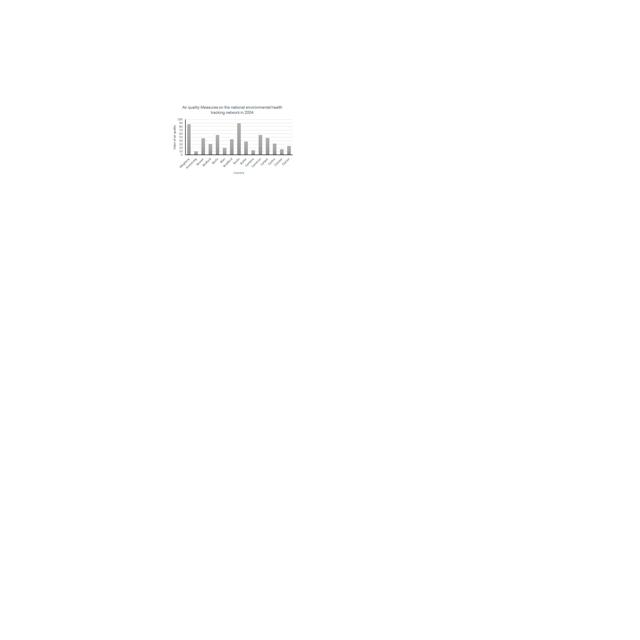Graph: (170, 103, 295, 177)
